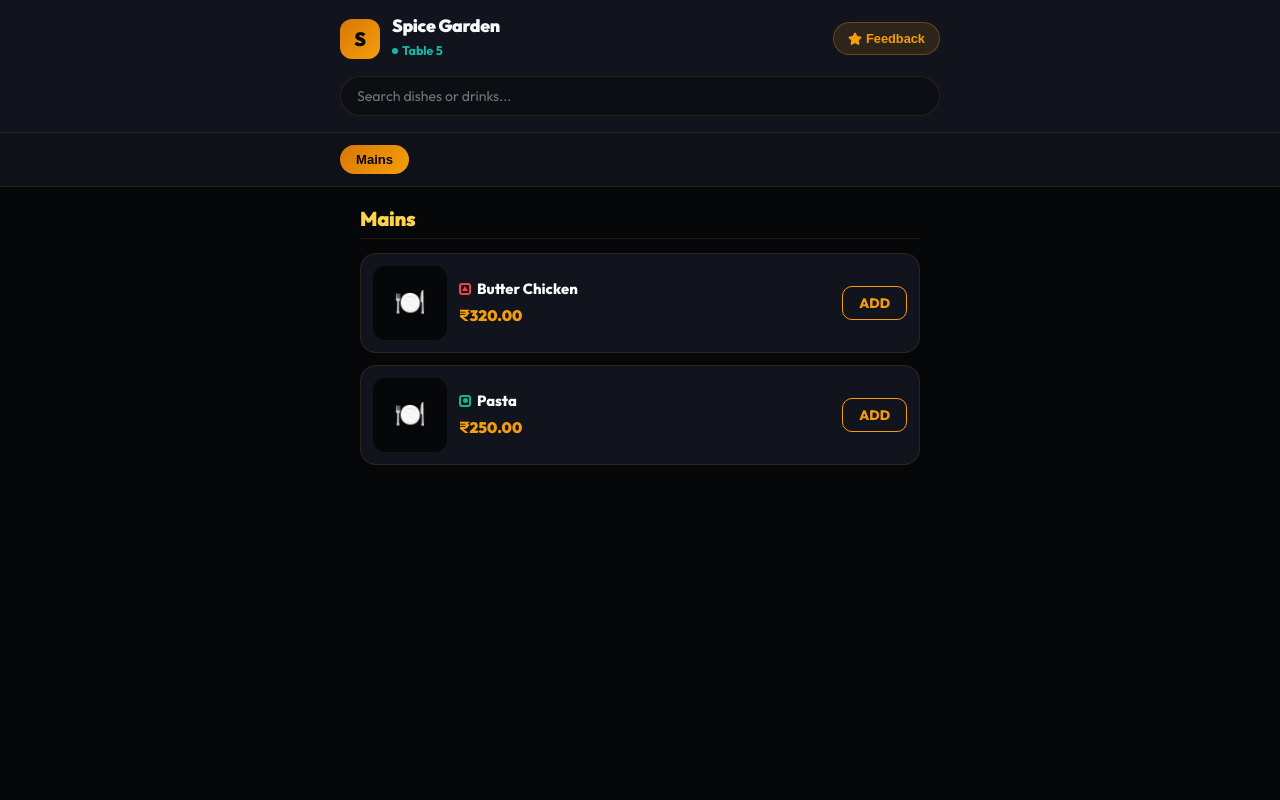
Test: MenuView — guest ordering (frontend ↔ Firestore integration) › required-modifier items open the customize modal and cannot be added without a choice
Check: the text "Butter Chicken" is shown, box [477, 277, 578, 300]
Check: the text "Pasta" is shown, box [477, 389, 517, 412]
Click the button "ADD" in the row of "250.00".
click(875, 415)  # box [842, 398, 907, 432]
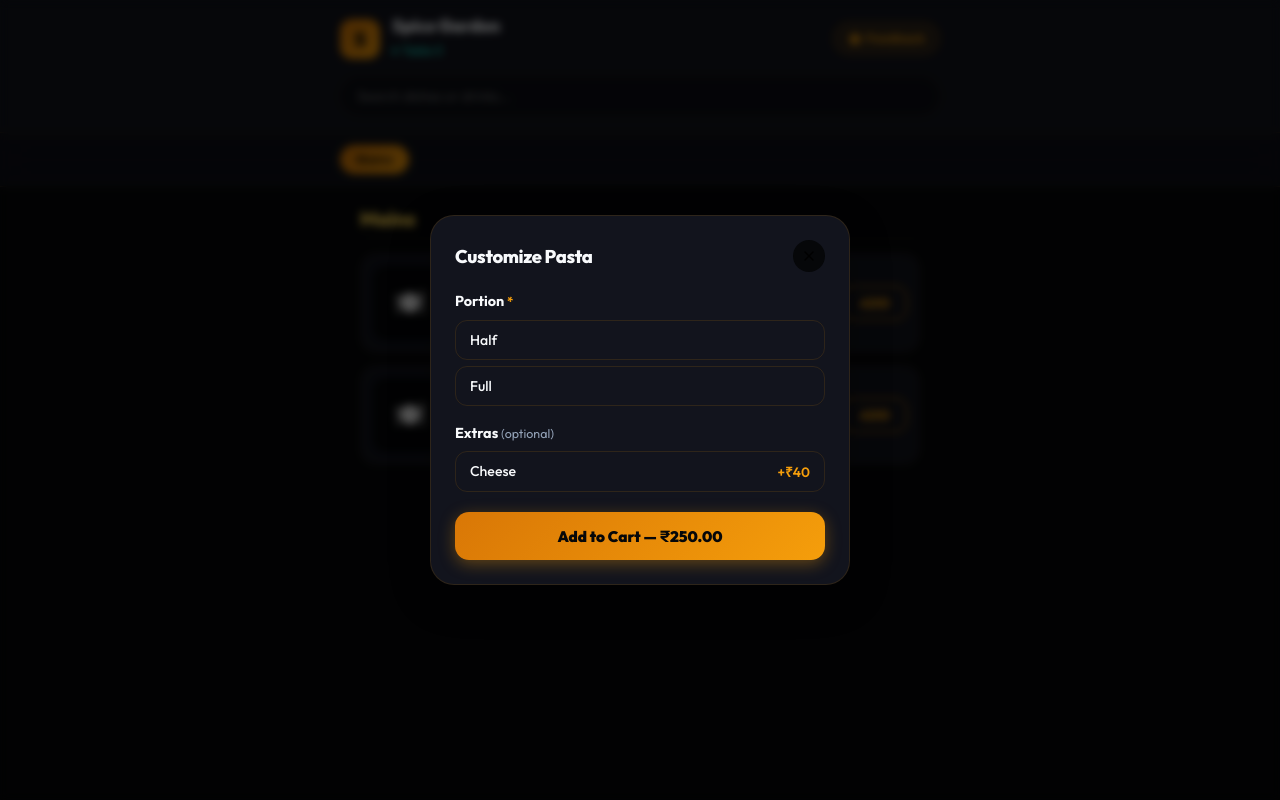
Check: the heading "Customize Pasta" is shown, box [455, 246, 592, 267]
# Try adding with no selection → blocked with an error toast
Click the button "Add to Cart — ₹250.00".
click(640, 536)  # box [455, 512, 825, 560]
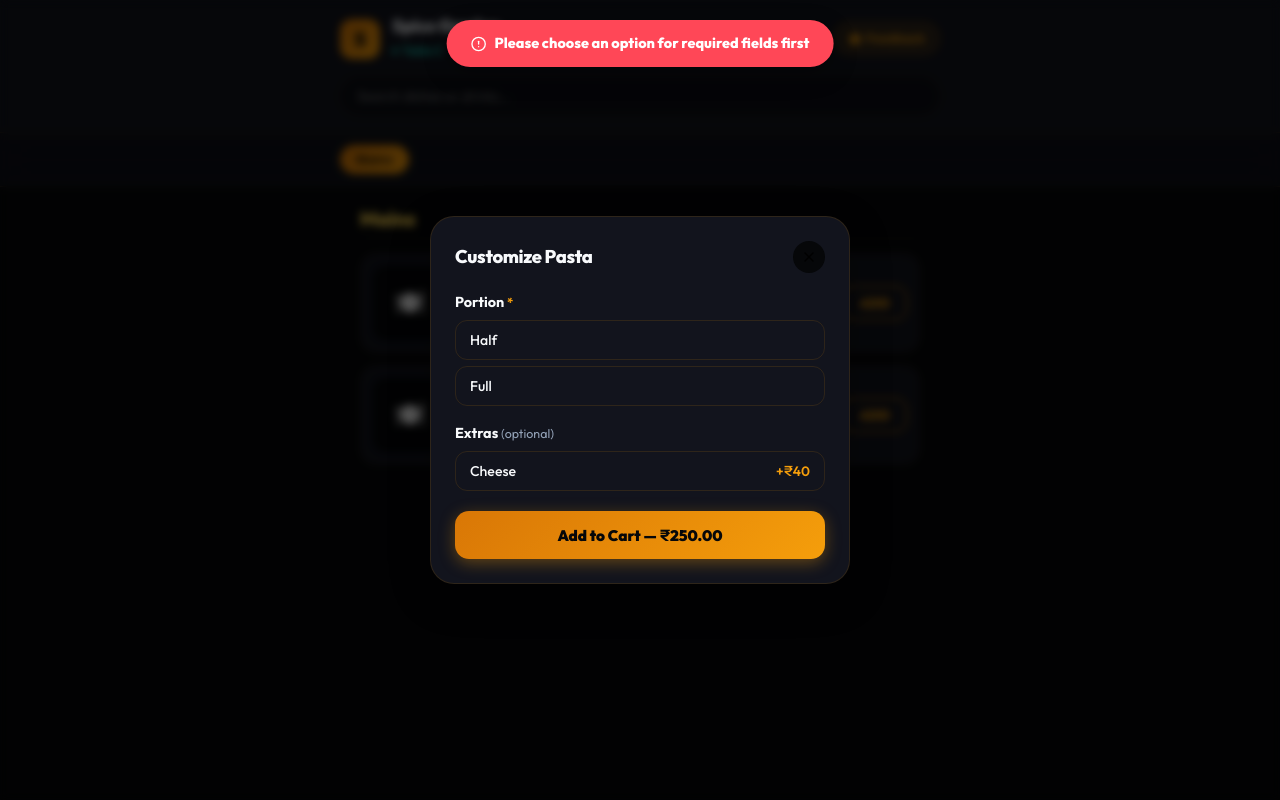
Check: the button "Add to Cart — ₹250.00" is shown, box [455, 511, 825, 559]
Check: the text "Please choose an option for required fields first" is shown, box [447, 20, 833, 67]
